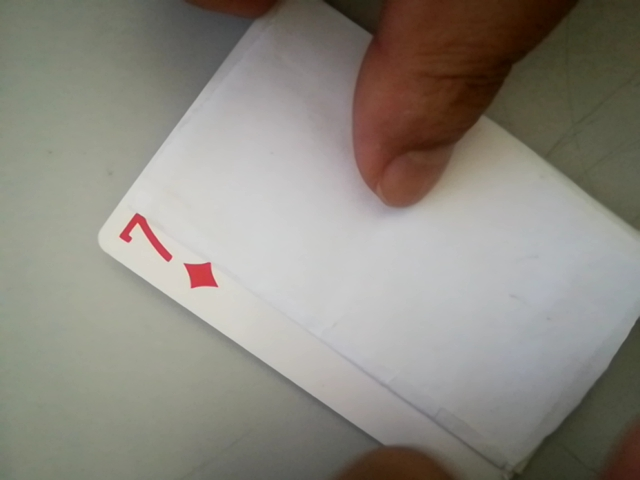fk 7: (108, 208, 235, 299)
